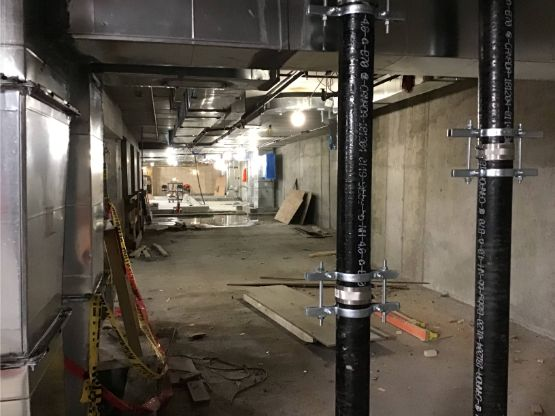Duct: (1, 1, 121, 416), (4, 1, 555, 86), (170, 74, 468, 158), (245, 143, 283, 219)
